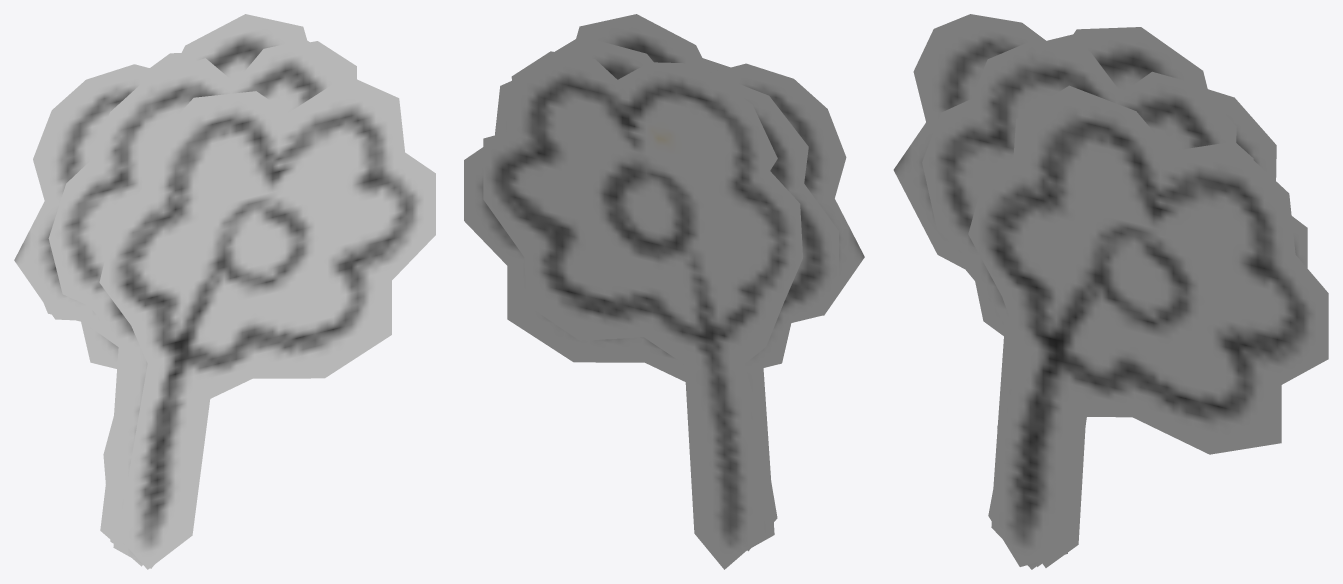
The model's file is GulBlomma.fbx.
The picture shows the model from 3 angles, left to right: view 1: azimuth 30°, elevation 25°; view 2: azimuth 150°, elevation 25°; view 3: azimuth 330°, elevation 25°; orthographic projection. The views are drawn at different scales.
Parts seen in each view (by area): view 1: GulBlomma5, GulBlomma4, GulBlomma3, GulBlomma2, GulBlomma1; view 2: GulBlomma1, GulBlomma3, GulBlomma2, GulBlomma5, GulBlomma4; view 3: GulBlomma5, GulBlomma4, GulBlomma3, GulBlomma1, GulBlomma2.
Part boxes in pixels (box(x1,y1,x2,y2)): GulBlomma5: box(99, 75, 435, 569); GulBlomma4: box(48, 40, 342, 568); GulBlomma3: box(14, 14, 306, 523); GulBlomma2: box(43, 303, 118, 543); GulBlomma1: box(100, 41, 356, 566); GulBlomma1: box(483, 51, 802, 569); GulBlomma3: box(573, 14, 864, 518); GulBlomma2: box(507, 41, 838, 545); GulBlomma5: box(464, 81, 777, 551); GulBlomma4: box(506, 39, 774, 549); GulBlomma5: box(968, 85, 1328, 566); GulBlomma4: box(922, 41, 1236, 569); GulBlomma3: box(893, 14, 1253, 566); GulBlomma1: box(1042, 34, 1307, 567); GulBlomma2: box(975, 42, 1223, 562).
Bounding box in the file's own units: 11.81 × 14.57 × 0.75.
Materials: 1 (1 with a texture image).
